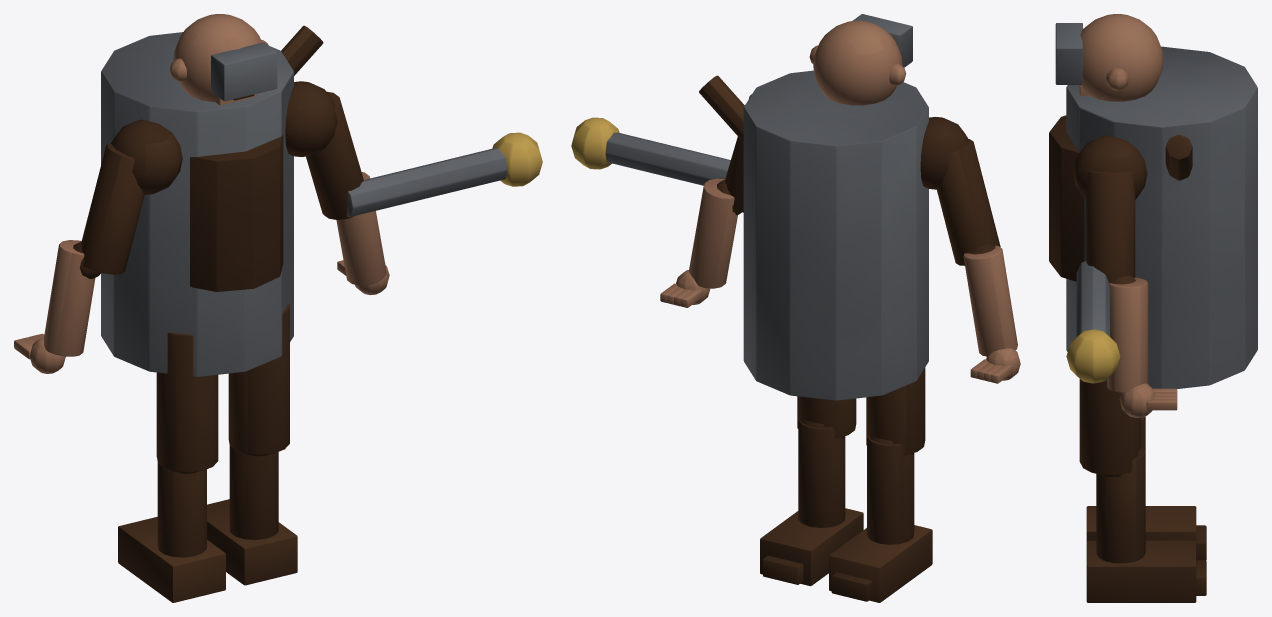
Rendered from unit_freetown_flamer.fbx.
The picture shows the model from 3 angles, left to right: view 1: azimuth 30°, elevation 25°; view 2: azimuth 150°, elevation 25°; view 3: azimuth 270°, elevation 25°; orthographic projection. The views are drawn at different scales.
Parts seen in each view (by area): view 1: unit_freetown_flamer; view 2: unit_freetown_flamer; view 3: unit_freetown_flamer.
Part boxes in pixels (<box>): unit_freetown_flamer: <box>14,14,542,602</box>; unit_freetown_flamer: <box>571,14,1020,602</box>; unit_freetown_flamer: <box>1049,14,1257,602</box>.
Bounding box in the file's own units: 1.62 × 1.78 × 0.6085.
